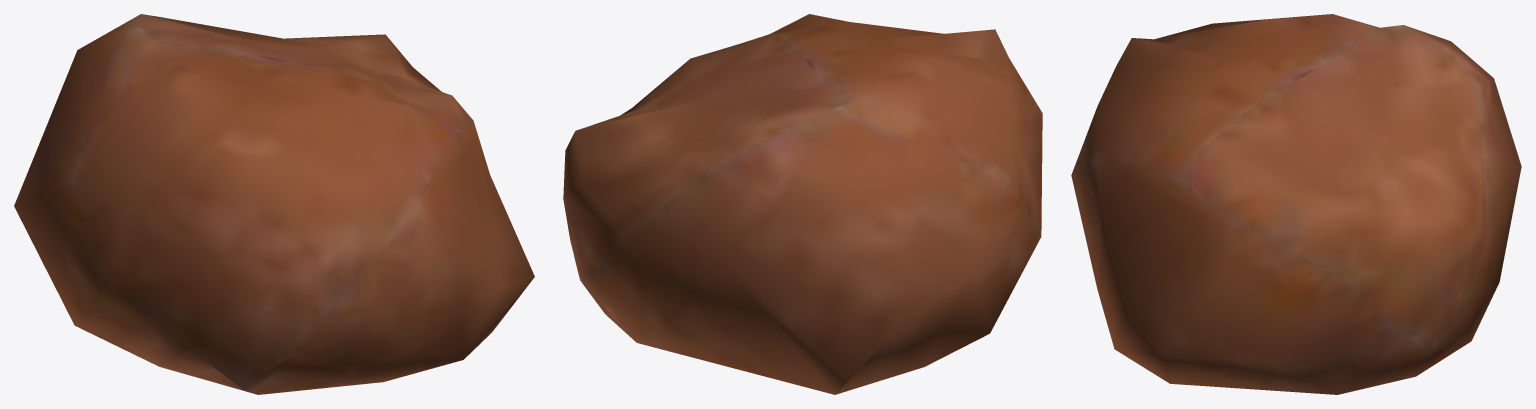
The model's file is desert_boulder_1.glb.
The picture shows the model from 3 angles, left to right: view 1: azimuth 30°, elevation 25°; view 2: azimuth 150°, elevation 25°; view 3: azimuth 270°, elevation 25°; orthographic projection. The views are drawn at different scales.
Visible parts, largest first — view 1: Rock_Boulders_1; view 2: Rock_Boulders_1; view 3: Rock_Boulders_1.
Part boxes in pixels (x1,y1,x2,y2): Rock_Boulders_1: (14, 14, 534, 394); Rock_Boulders_1: (563, 14, 1042, 394); Rock_Boulders_1: (1071, 14, 1521, 394).
Size of what is drawn, in the model's own units: 2.41 by 1.63 by 2.43.
Materials: 1 (1 with a texture image).
